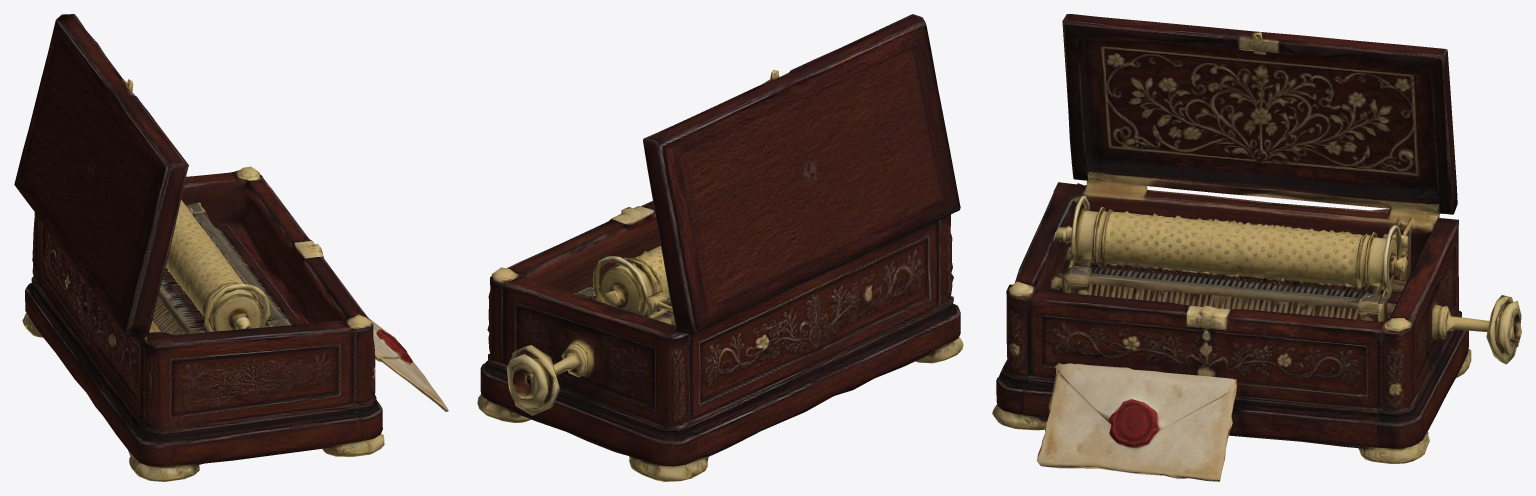
File: prop_s1_music_box.glb
3 renders of one model, left to right at view 1: azimuth 30°, elevation 25°; view 2: azimuth 150°, elevation 25°; view 3: azimuth 270°, elevation 25°, orthographic. The views are drawn at different scales.
Visible parts, largest first — view 1: tripo_node_0519e96f-7b53-46a3-bf91-c17f14e130c3; view 2: tripo_node_0519e96f-7b53-46a3-bf91-c17f14e130c3; view 3: tripo_node_0519e96f-7b53-46a3-bf91-c17f14e130c3.
Part boxes in pixels (x1=…): tripo_node_0519e96f-7b53-46a3-bf91-c17f14e130c3: x1=14, y1=14, x2=448, y2=481; tripo_node_0519e96f-7b53-46a3-bf91-c17f14e130c3: x1=477, y1=14, x2=963, y2=481; tripo_node_0519e96f-7b53-46a3-bf91-c17f14e130c3: x1=992, y1=14, x2=1521, y2=481.
Bounding box in the file's own units: 0.7944 × 0.7007 × 1.03.
1 material, 1 textured.
